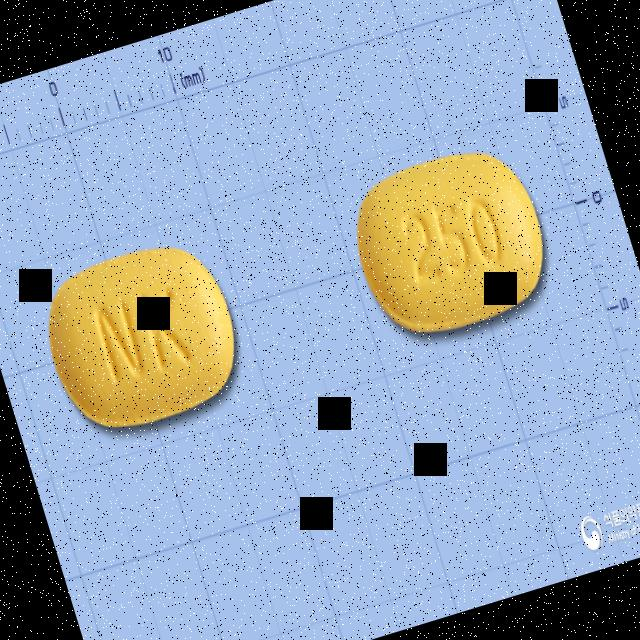Clara: (28, 227, 260, 452), (335, 130, 565, 353)
